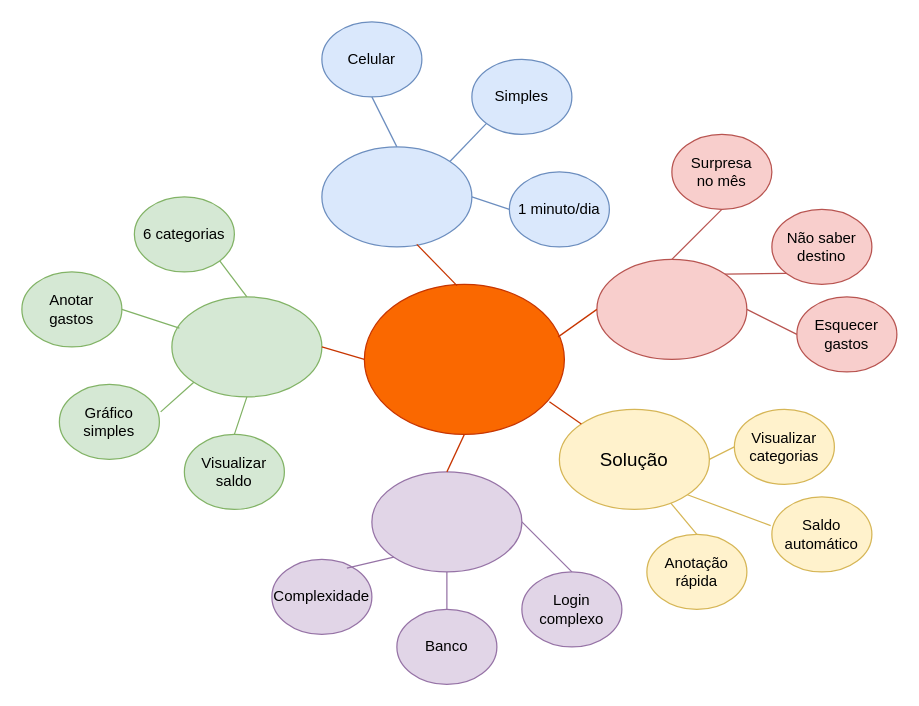
Image size: 919x706. Some labels were removed from this diagram. Each missing label, with the box of its shape:
Foco: (321, 146, 472, 247)
Inclui: (171, 296, 322, 397)
MyFinance Tracker: (363, 283, 564, 434)
Não inclui: (371, 471, 522, 572)
Problema: (596, 258, 747, 359)
